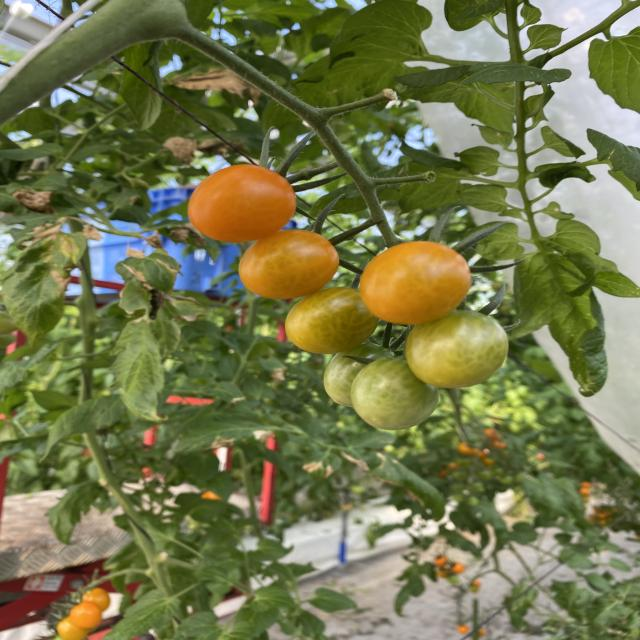sari: (142, 148, 474, 324)
yesil: (258, 327, 525, 429)
